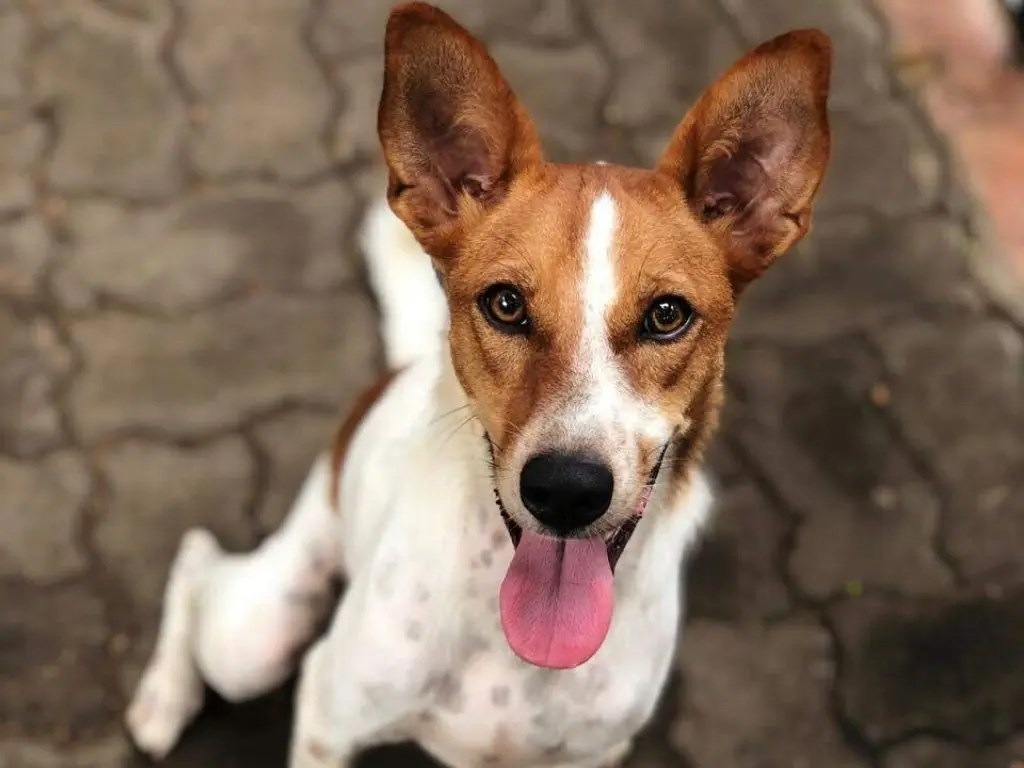Dog: (107, 1, 842, 768)
